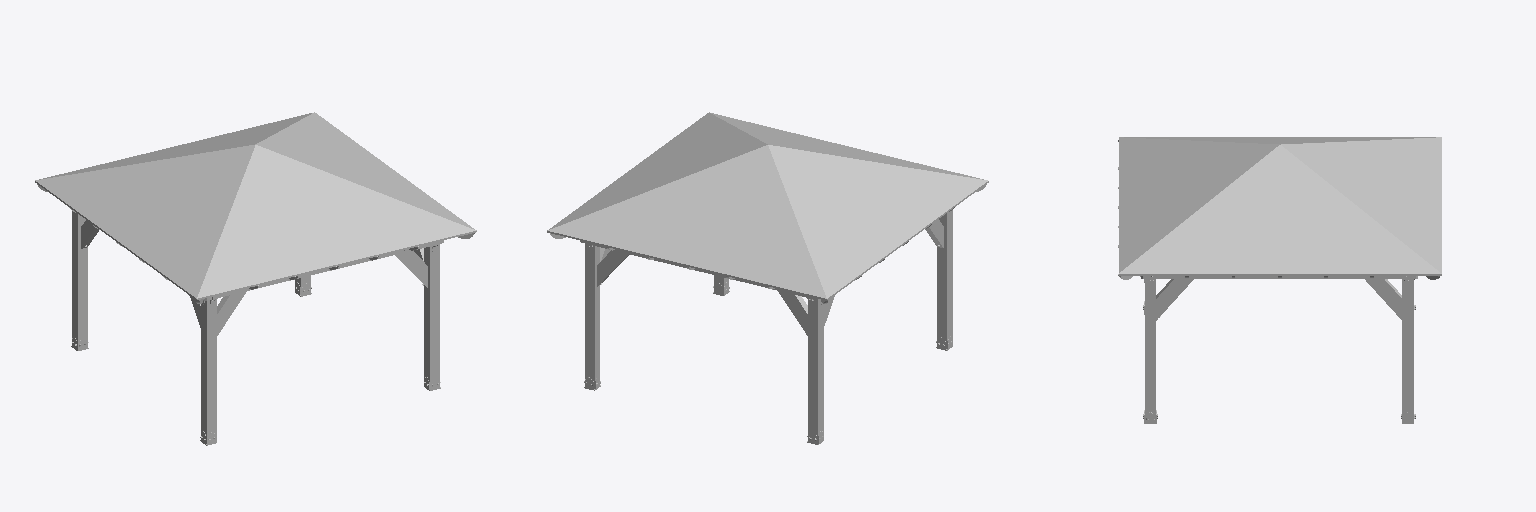
The model's file is saratoga-14x14-bullnose.obj.
3 renders of one model, left to right at view 1: azimuth 30°, elevation 25°; view 2: azimuth 150°, elevation 25°; view 3: azimuth 270°, elevation 25°, orthographic.
Visible parts, largest first — view 1: Mesh226 shingles roof Group1 Model, Mesh177 Group70 Component_92_4 Group1 Model, Mesh79 Group42 Component_92_2 Group1 Model, Mesh128 Group56 Component_92_3 Group1 Model, Mesh227 roof Group1 Model, Mesh217 Component_91_7 Component_92_4 Group1 Model, Mesh119 Component_91_3 Component_92_2 Group1 Model; view 2: Mesh226 shingles roof Group1 Model, Mesh128 Group56 Component_92_3 Group1 Model, Mesh1 Group3 Component_92_1 Group2 Group1 Model, Mesh177 Group70 Component_92_4 Group1 Model, Mesh227 roof Group1 Model, Mesh168 Component_91_5 Component_92_3 Group1 Model, Mesh41 Component_91_1 Component_92_1 Group2 Group1 Model; view 3: Mesh226 shingles roof Group1 Model, Mesh1 Group3 Component_92_1 Group2 Group1 Model, Mesh79 Group42 Component_92_2 Group1 Model, Mesh78 Component_134_2 Group1 Model, Mesh123 Component_91_4 Component_92_2 Group1 Model, Mesh45 Component_91_2 Component_92_1 Group2 Group1 Model, Mesh227 roof Group1 Model.
Part boxes in pixels (left/top/right/bottom): Mesh226 shingles roof Group1 Model: left=35, top=112, right=476, bottom=298; Mesh177 Group70 Component_92_4 Group1 Model: left=201, top=299, right=216, bottom=443; Mesh79 Group42 Component_92_2 Group1 Model: left=424, top=244, right=439, bottom=389; Mesh128 Group56 Component_92_3 Group1 Model: left=72, top=211, right=87, bottom=349; Mesh227 roof Group1 Model: left=35, top=181, right=476, bottom=299; Mesh217 Component_91_7 Component_92_4 Group1 Model: left=217, top=291, right=246, bottom=335; Mesh119 Component_91_3 Component_92_2 Group1 Model: left=395, top=251, right=427, bottom=287; Mesh226 shingles roof Group1 Model: left=547, top=112, right=987, bottom=298; Mesh128 Group56 Component_92_3 Group1 Model: left=808, top=299, right=823, bottom=443; Mesh1 Group3 Component_92_1 Group2 Group1 Model: left=585, top=244, right=599, bottom=388; Mesh177 Group70 Component_92_4 Group1 Model: left=937, top=210, right=952, bottom=348; Mesh227 roof Group1 Model: left=547, top=181, right=988, bottom=300; Mesh168 Component_91_5 Component_92_3 Group1 Model: left=778, top=291, right=807, bottom=335; Mesh41 Component_91_1 Component_92_1 Group2 Group1 Model: left=597, top=250, right=629, bottom=286; Mesh226 shingles roof Group1 Model: left=1119, top=137, right=1441, bottom=273; Mesh1 Group3 Component_92_1 Group2 Group1 Model: left=1402, top=279, right=1413, bottom=422; Mesh79 Group42 Component_92_2 Group1 Model: left=1145, top=279, right=1155, bottom=422; Mesh78 Component_134_2 Group1 Model: left=1148, top=276, right=1402, bottom=278; Mesh123 Component_91_4 Component_92_2 Group1 Model: left=1156, top=279, right=1193, bottom=320; Mesh45 Component_91_2 Component_92_1 Group2 Group1 Model: left=1365, top=279, right=1401, bottom=319; Mesh227 roof Group1 Model: left=1119, top=274, right=1441, bottom=275.
Size of the model in its own units: 168 by 128 by 168.